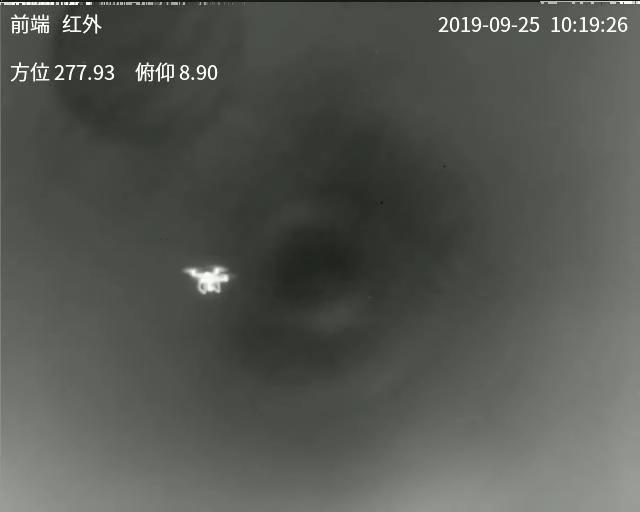uav: (178, 264, 230, 303)
